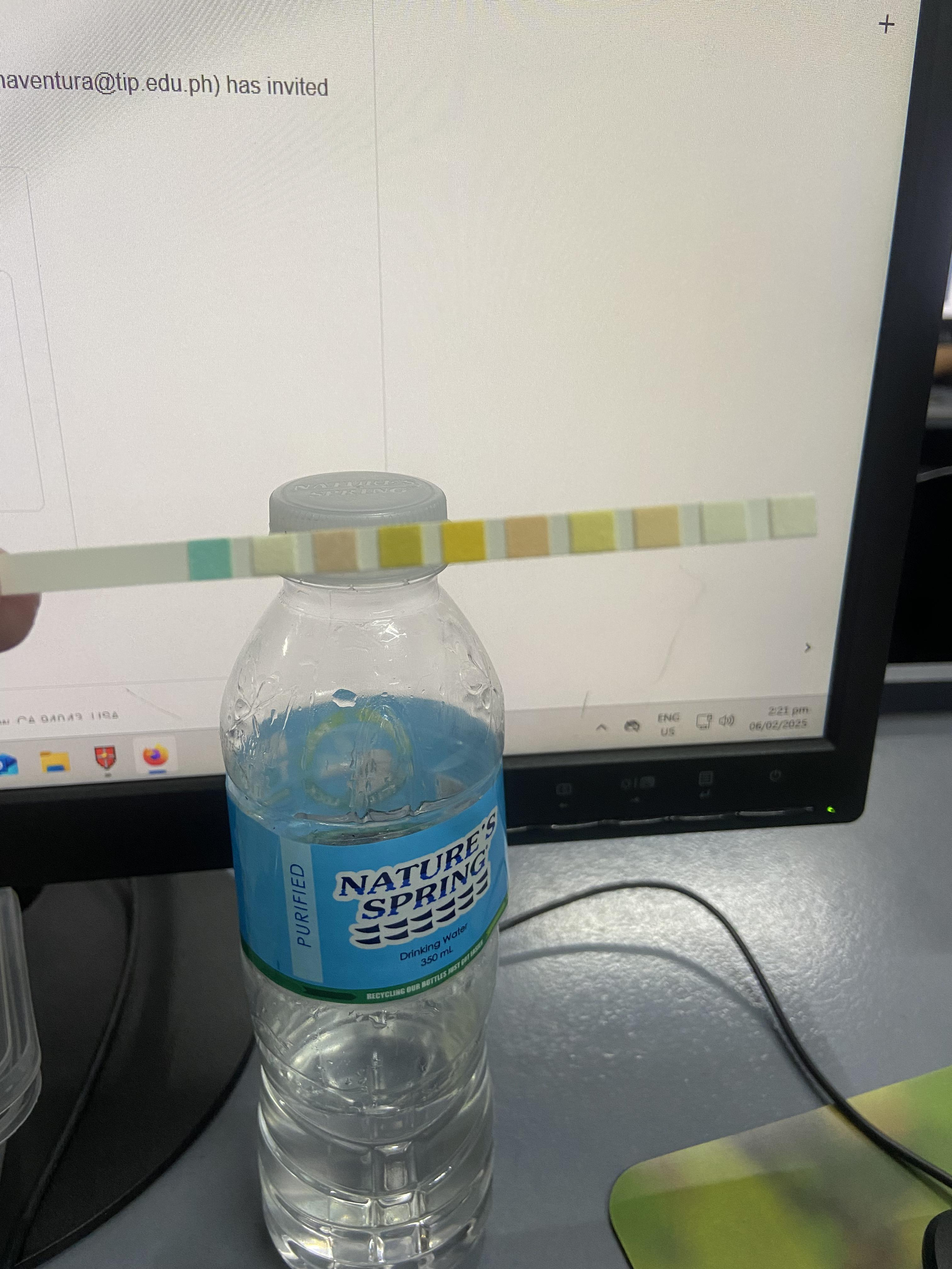Bilirubin: (255, 538, 296, 573)
Blood: (442, 524, 484, 560)
Glucose: (189, 542, 232, 578)
Ketone: (314, 534, 356, 570)
Leukocytes: (770, 498, 815, 535)
Nitrite: (703, 504, 747, 541)
Protein: (570, 514, 613, 549)
SpGravity: (379, 528, 422, 565)
Urobilinogen: (637, 509, 678, 544)
pH: (507, 519, 547, 555)
strip: (3, 495, 817, 596)
